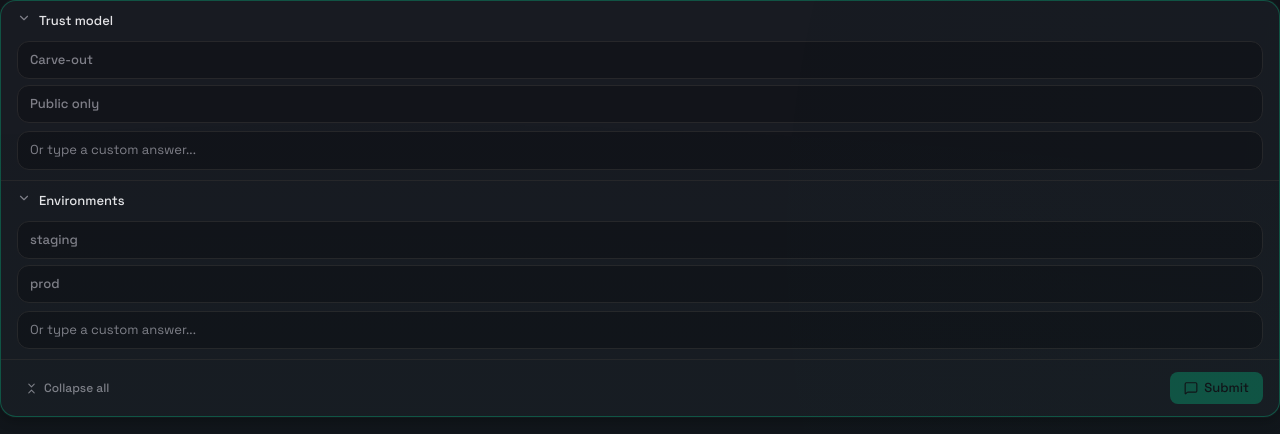
Scenario: QuestionCard — collapsing › folds and unfolds every question from one control
Click the button "Collapse all": (67, 388) [17,373,117,404]
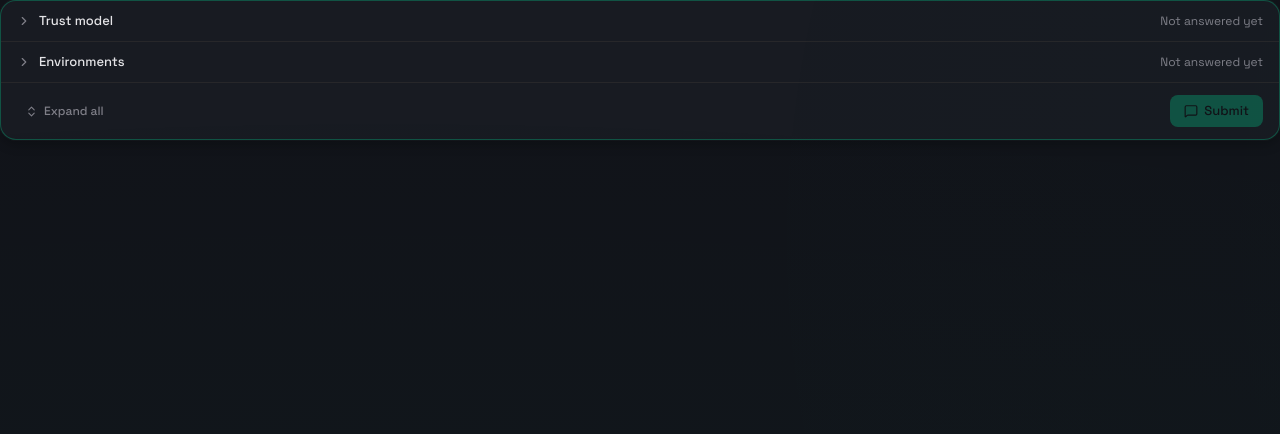
Check: the button "Carve-out" is gone
Check: the button "staging" is gone
The label flips to the action now available, so one button covers both.
Click the button "Expand all": (64, 111) [17,96,112,127]
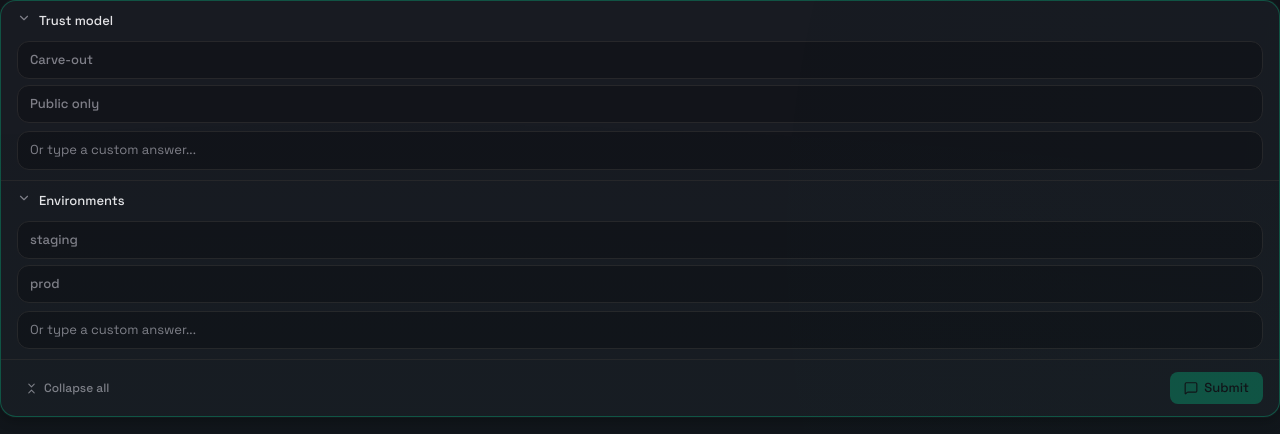
Check: the text "Carve-out" is shown, box [30,51,93,68]
Check: the text "staging" is shown, box [30,231,78,248]
